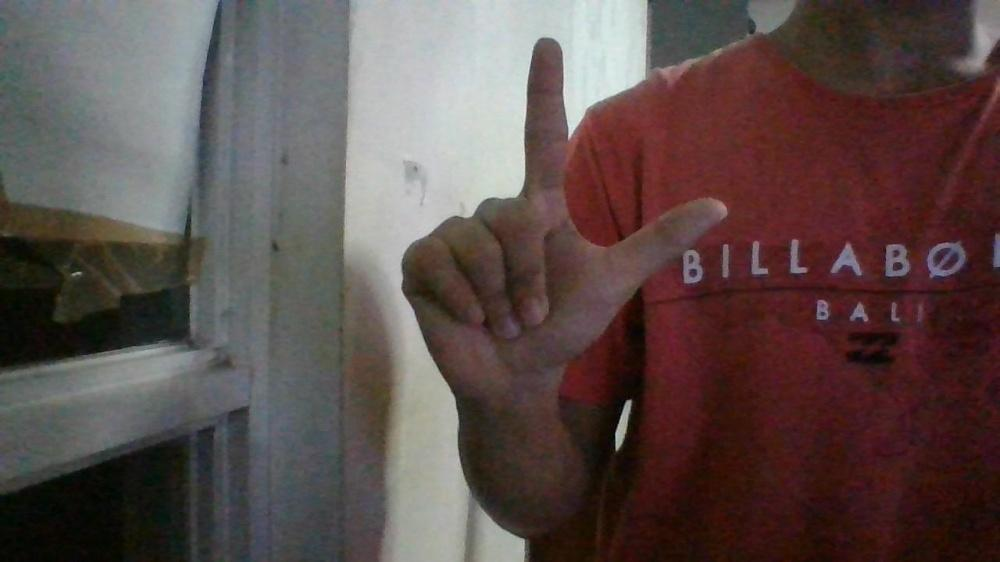l: (399, 41, 729, 404)
